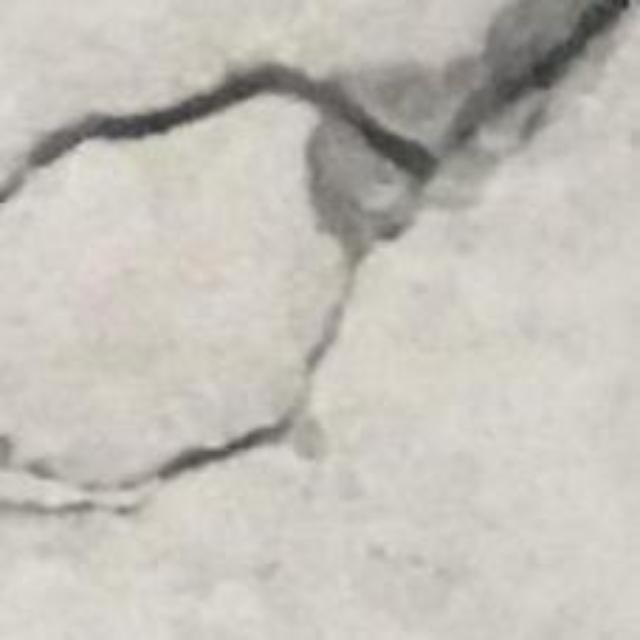crack: (0, 0, 639, 515)
